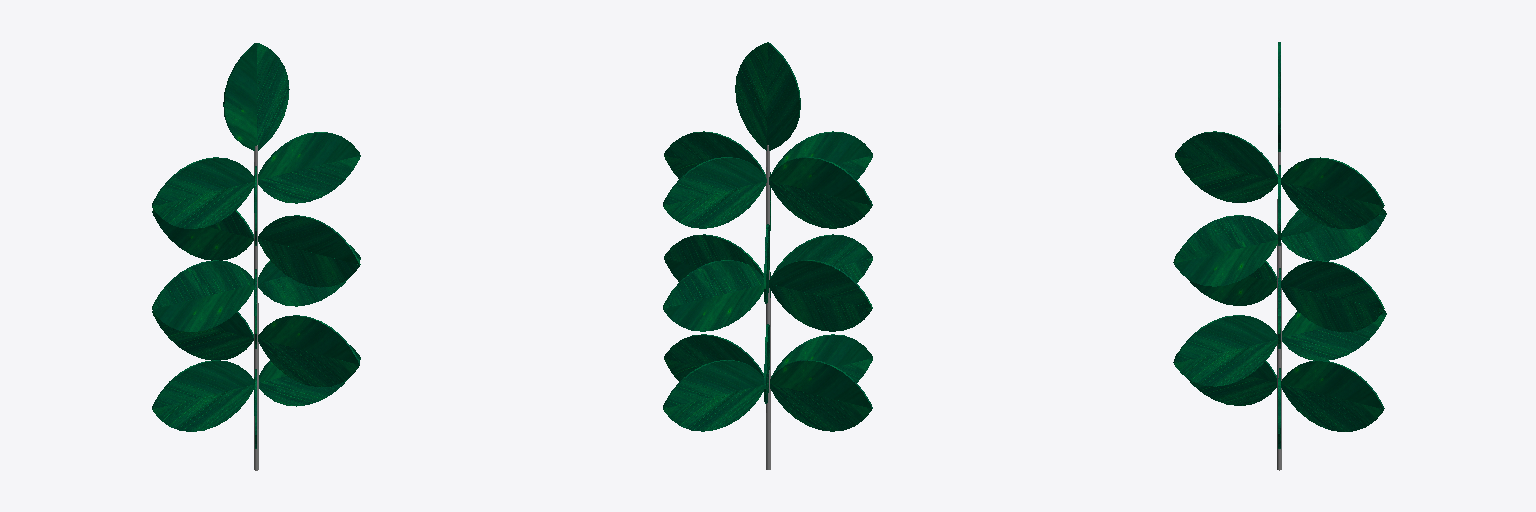
3 renders of one model, left to right at view 1: azimuth 30°, elevation 25°; view 2: azimuth 150°, elevation 25°; view 3: azimuth 270°, elevation 25°, orthographic.
Parts seen in each view (by area): view 1: Cylinder076, Cylinder070, Cylinder067, Cylinder068, Cylinder069, Cylinder074, Cylinder075, Cylinder082, Cylinder083, Cylinder077, Cylinder078, Cone004; view 2: Cylinder079, Cylinder068, Cylinder067, Cylinder069, Cylinder080, Cylinder070, Cylinder081, Cylinder072, Cylinder071, Cylinder073, Cylinder076, Cylinder078 (+2 smaller); view 3: Cylinder075, Cylinder074, Cylinder071, Cylinder081, Cylinder079, Cylinder080, Cylinder082, Cylinder083, Cylinder073, Cylinder072, Cone004.
Part boxes in pixels (x1,y1,x2,y2): Cylinder076: (258, 132, 360, 203); Cylinder070: (223, 43, 289, 150); Cylinder067: (152, 157, 253, 228); Cylinder068: (152, 260, 253, 331); Cylinder069: (152, 360, 253, 431); Cylinder074: (258, 215, 360, 287); Cylinder075: (258, 315, 359, 386); Cylinder082: (152, 209, 253, 260); Cylinder083: (152, 311, 253, 360); Cylinder077: (258, 245, 360, 306); Cylinder078: (259, 345, 360, 406); Cone004: (254, 145, 258, 470); Cylinder079: (663, 157, 766, 228); Cylinder068: (769, 260, 872, 331); Cylinder067: (769, 157, 872, 228); Cylinder069: (770, 360, 872, 431); Cylinder080: (663, 260, 763, 331); Cylinder070: (735, 42, 800, 150); Cylinder081: (663, 360, 763, 431); Cylinder072: (770, 234, 872, 282); Cylinder071: (770, 131, 872, 179); Cylinder073: (771, 334, 872, 382); Cylinder076: (664, 131, 766, 178); Cylinder078: (664, 334, 763, 381); Cylinder075: (1173, 315, 1277, 386); Cylinder074: (1173, 215, 1277, 286); Cylinder071: (1175, 131, 1277, 202); Cylinder081: (1281, 360, 1384, 431); Cylinder079: (1281, 157, 1384, 228); Cylinder080: (1281, 260, 1384, 331); Cylinder082: (1281, 209, 1386, 260); Cylinder083: (1282, 310, 1386, 360); Cylinder073: (1175, 353, 1276, 405); Cylinder072: (1175, 252, 1276, 305); Cone004: (1277, 152, 1281, 470).
Size of the model in its own units: 26.89 by 52.63 by 23.88.
Materials: 2 (1 with a texture image).